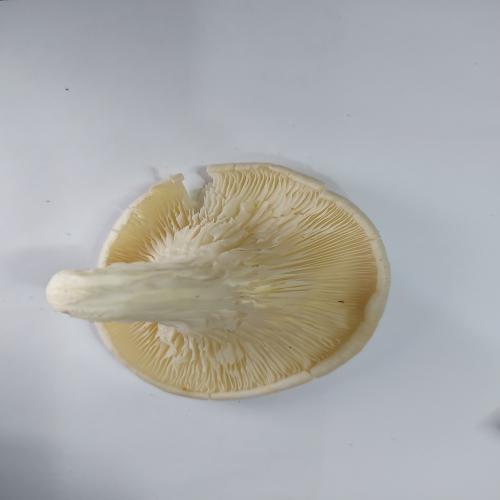Oyster Mushroom: (45, 161, 392, 401)
